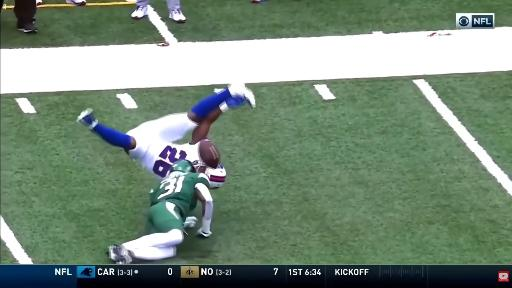Helmet: (207, 166, 226, 188), (171, 160, 195, 173)
Jersey: (150, 173, 210, 217), (139, 141, 199, 179)
Player: (77, 84, 255, 187), (108, 160, 213, 264)
